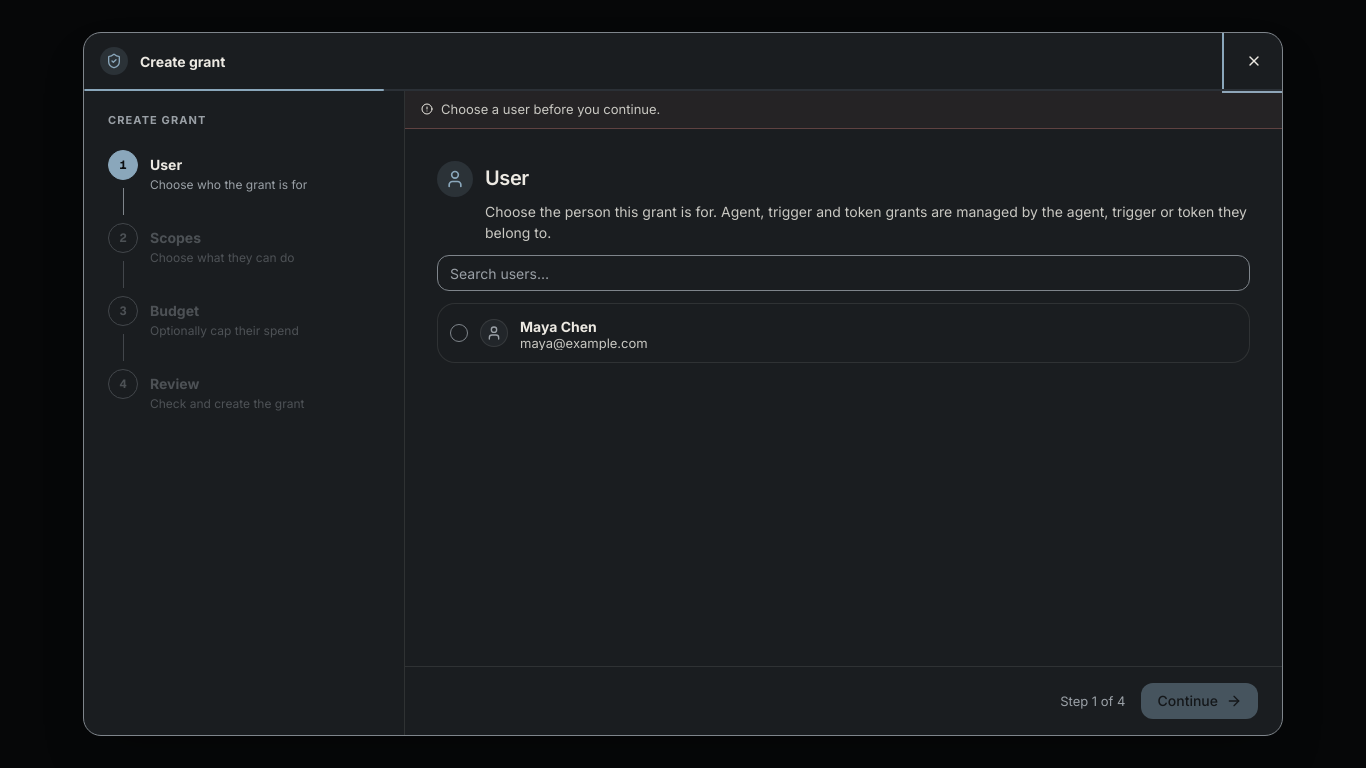
Scenario: CreateGrantWizard › requires a scope, then creates a HUMAN grant with no budget
Click the radio button named "Maya Chen": (459, 333) [450, 324, 468, 342]
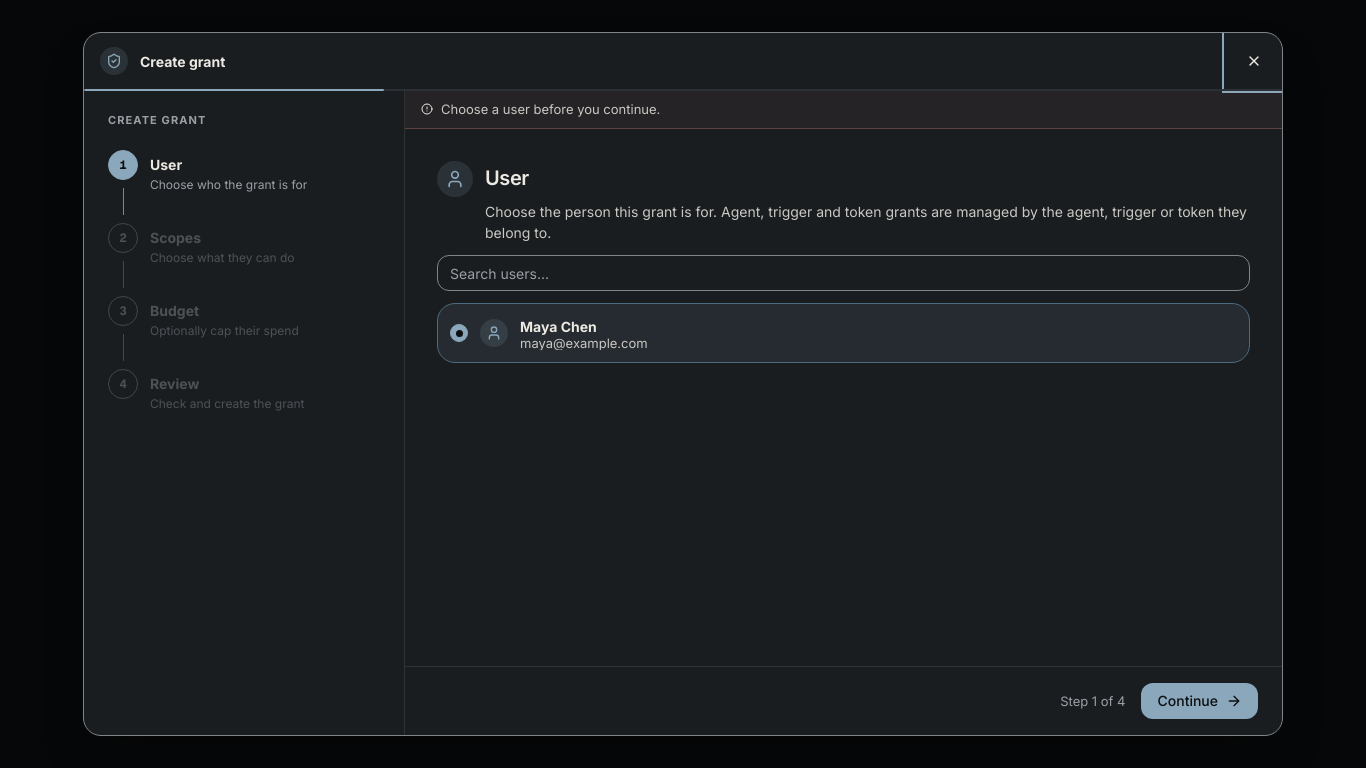
Click the button "Continue": (1200, 701) [1142, 683, 1258, 719]
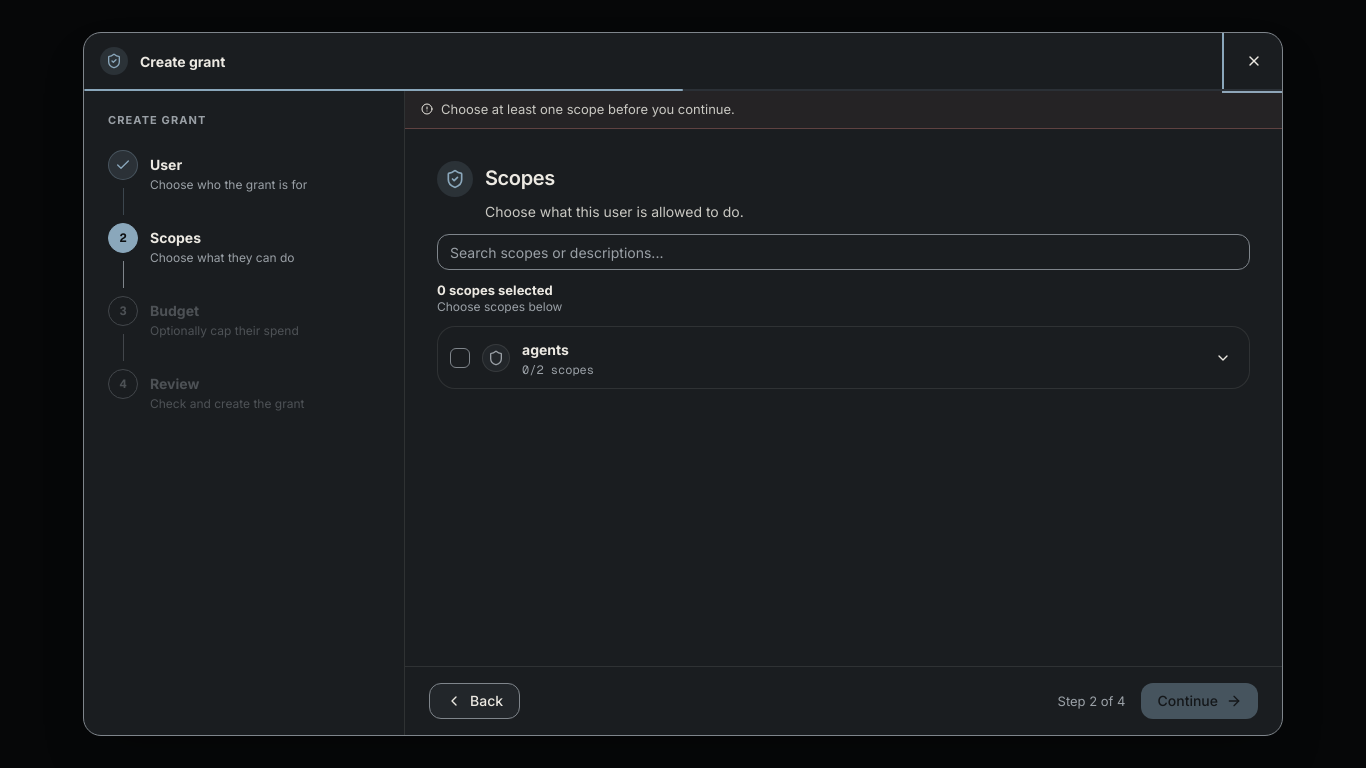
Expected: the text "Choose at least one scope before you continue." is shown, [441, 103, 735, 116]
Click the checkbox: (460, 358) [450, 348, 470, 368]
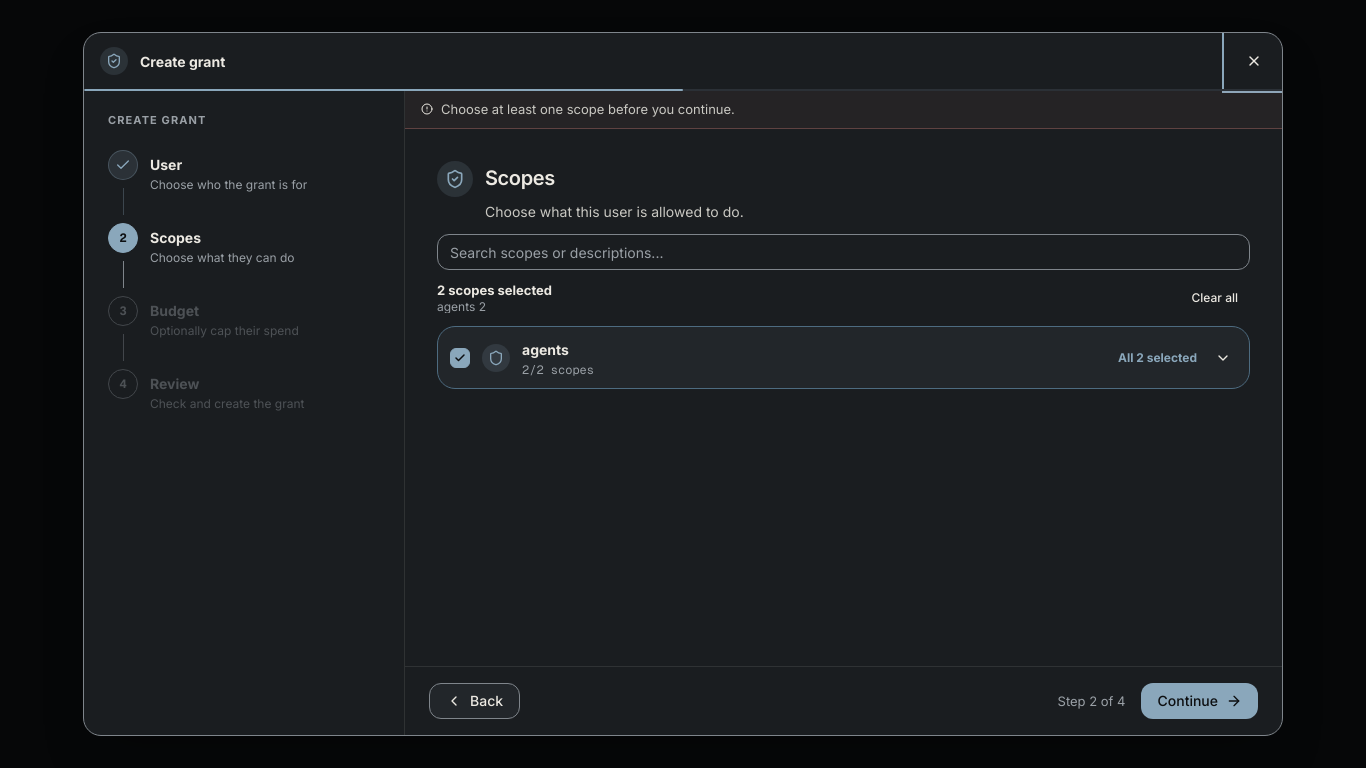
Click the button "Continue": (1200, 701) [1142, 683, 1258, 719]
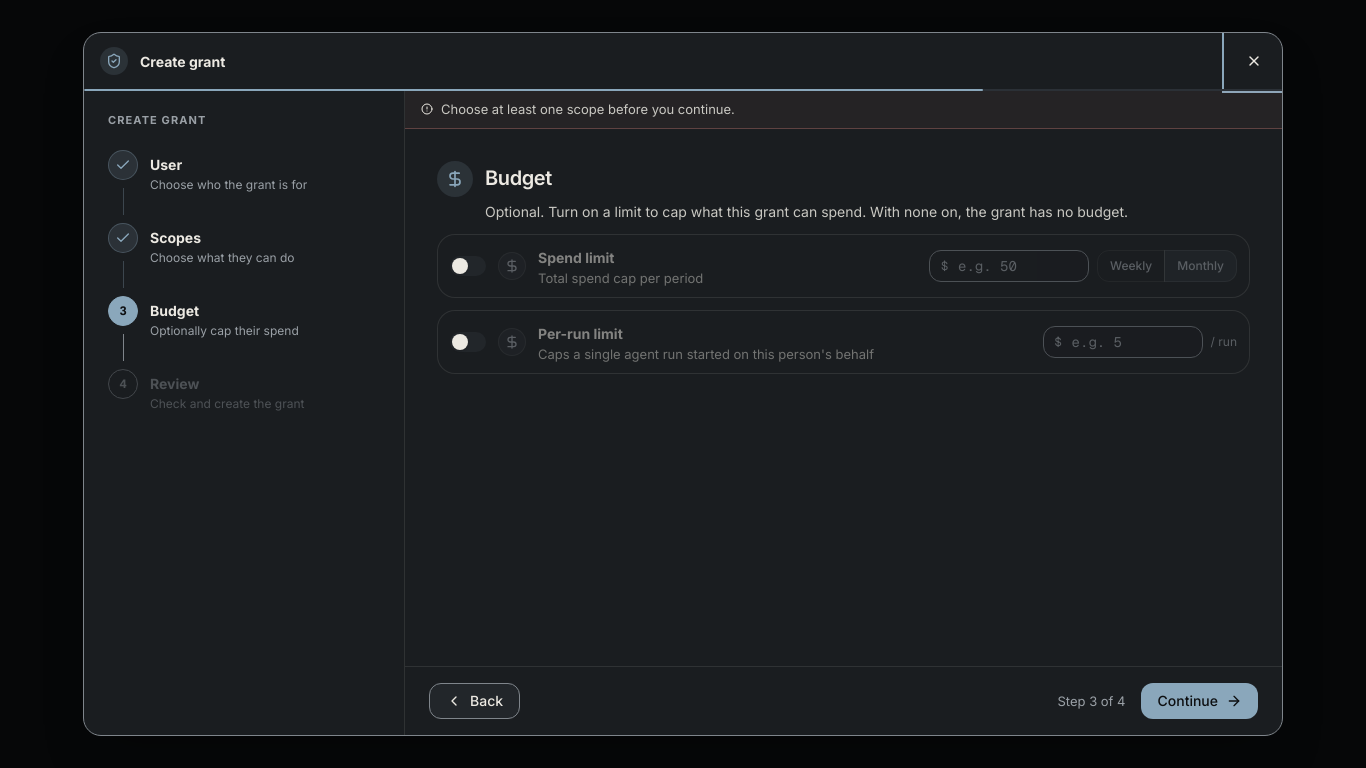
Click the button "Continue": (1200, 701) [1142, 683, 1258, 719]
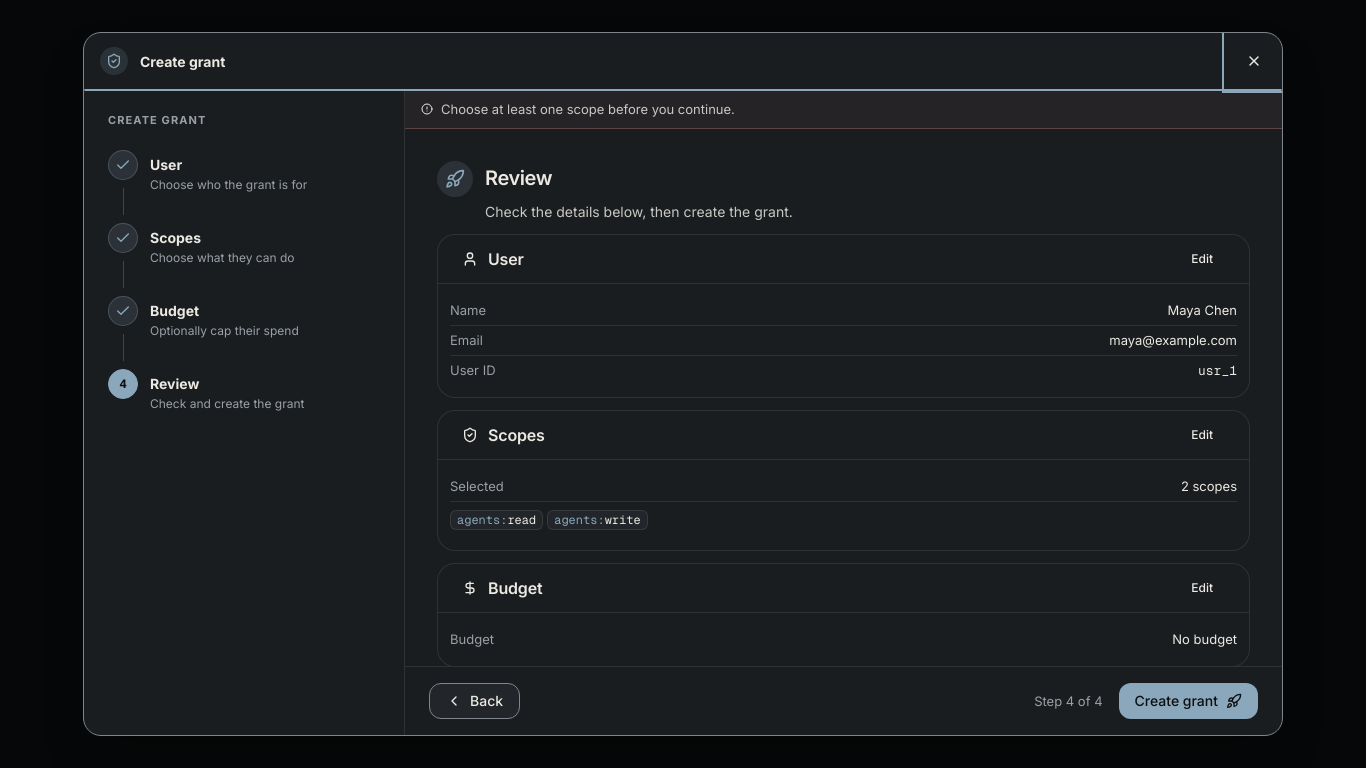
Click the button "Create grant": (1188, 701) [1118, 683, 1258, 719]
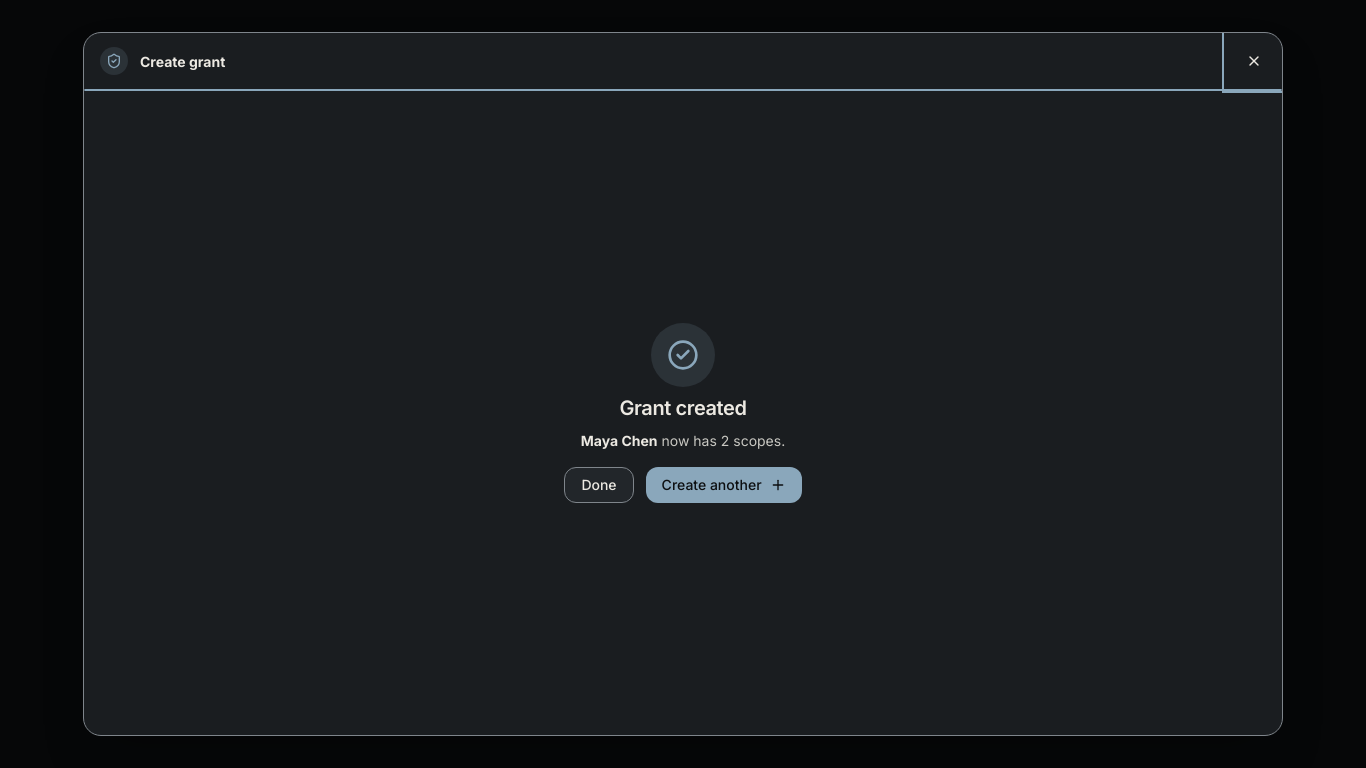
Expected: the heading "Grant created" is shown, [619, 395, 747, 422]
